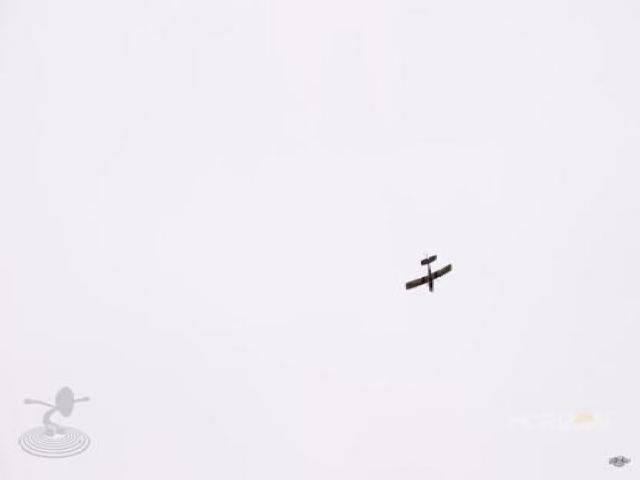uav: (399, 250, 455, 298)
